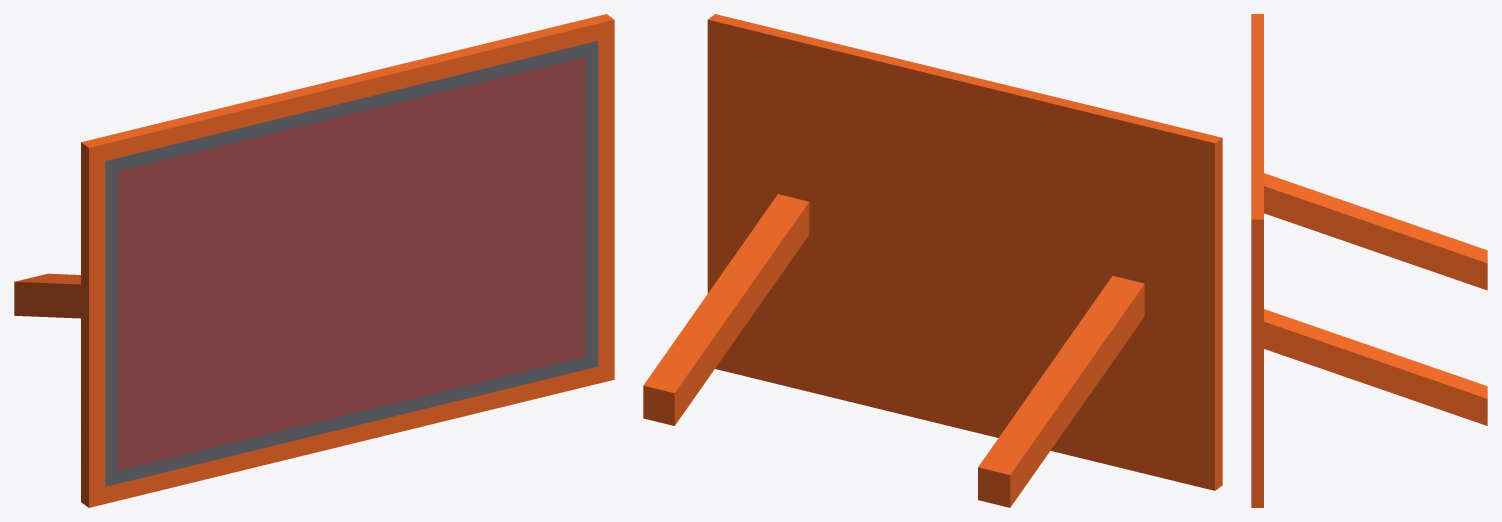
File: Char_HAL_Monitor.FBX
3 views of the same model, side by side, from view 1: azimuth 30°, elevation 25°; view 2: azimuth 150°, elevation 25°; view 3: azimuth 270°, elevation 25° (orthographic). The views are drawn at different scales.
Parts seen in each view (by area): view 1: Box001; view 2: Box001; view 3: Box001.
Part boxes in pixels (x1=…): Box001: x1=14, y1=14, x2=614, y2=507; Box001: x1=643, y1=14, x2=1222, y2=507; Box001: x1=1251, y1=14, x2=1487, y2=507.
Size of the model in its own units: 26.13 by 17.1 by 12.68.
